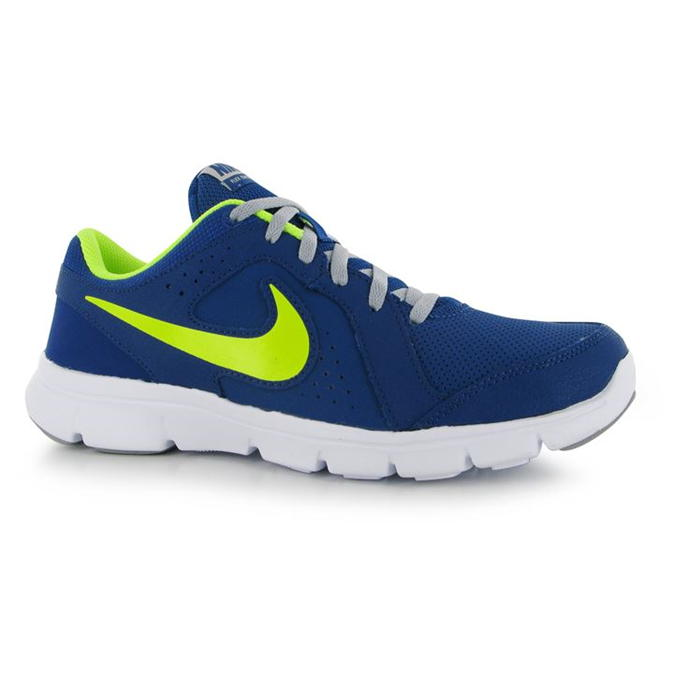nike: (77, 283, 322, 395)
